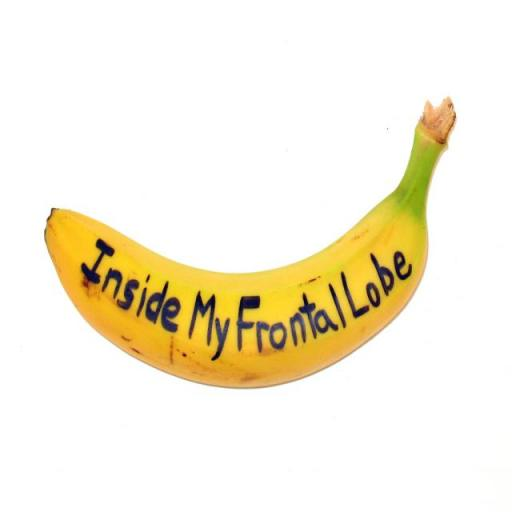fruit: (45, 99, 455, 387)
